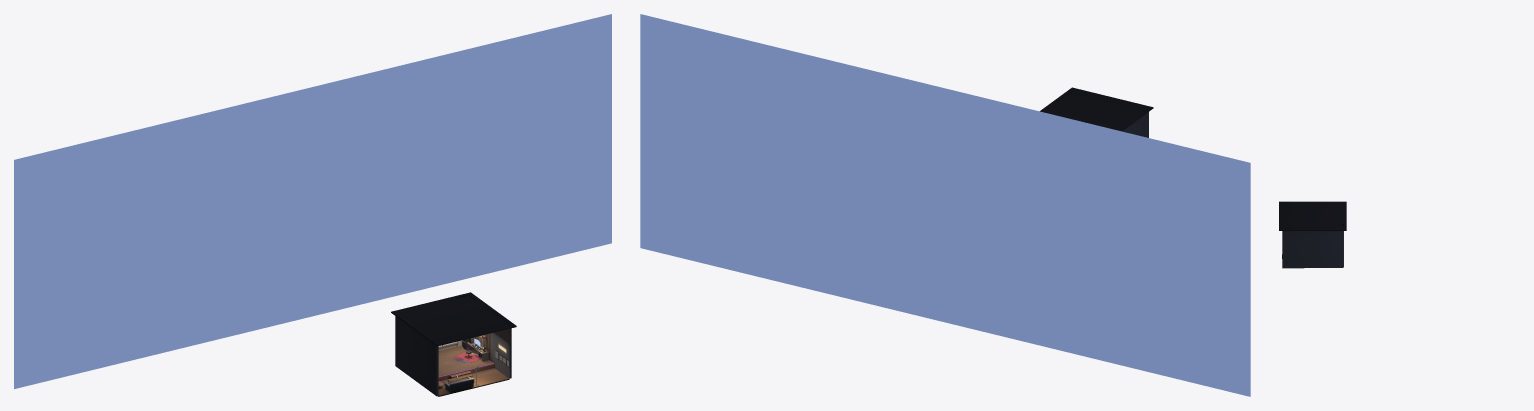
File: room.glb
The picture shows the model from 3 angles, left to right: view 1: azimuth 30°, elevation 25°; view 2: azimuth 150°, elevation 25°; view 3: azimuth 270°, elevation 25°; orthographic projection. The views are drawn at different scales.
Parts seen in each view (by area): view 1: backdrop, room_baked; view 2: backdrop, room_baked; view 3: room_baked.
Part boxes in pixels (x1=…): backdrop: x1=14, y1=14, x2=611, y2=388; room_baked: x1=391, y1=292, x2=516, y2=396; backdrop: x1=640, y1=14, x2=1250, y2=396; room_baked: x1=1040, y1=87, x2=1153, y2=137; room_baked: x1=1279, y1=201, x2=1346, y2=268.
Bounding box in the file's own units: 60 × 22 × 28.5.
18 materials, 1 textured.
